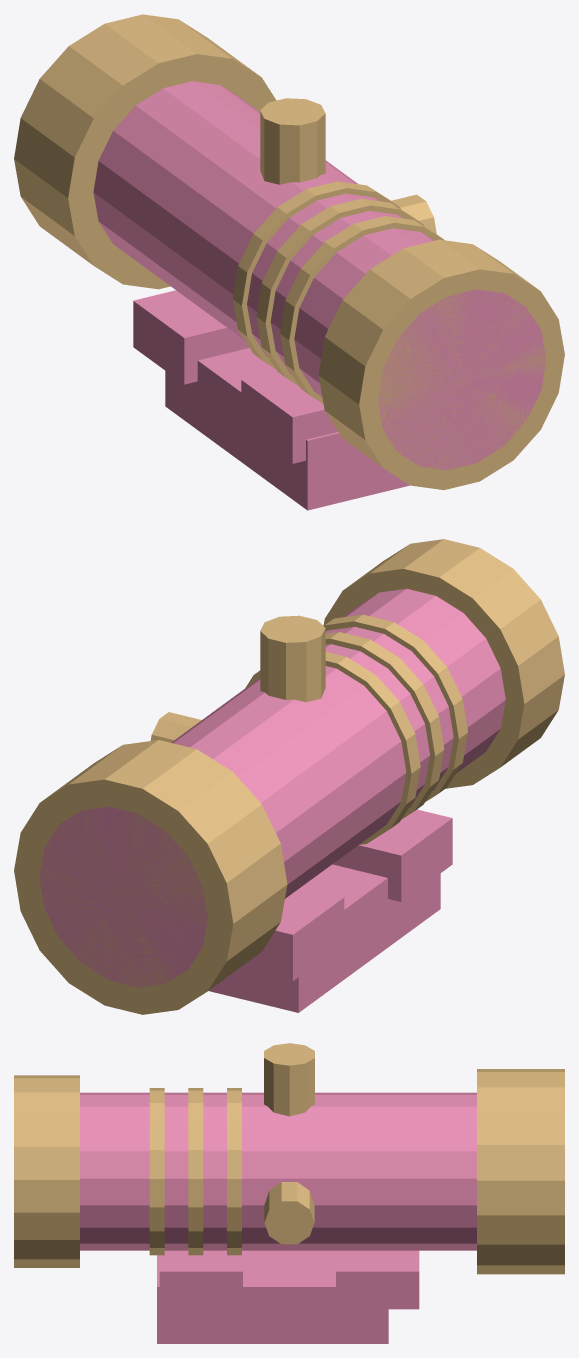
Rendered from Scope4x.obj.
3 views of the same model, one above another, from view 1: azimuth 30°, elevation 25°; view 2: azimuth 150°, elevation 25°; view 3: azimuth 270°, elevation 25° (orthographic). The views are drawn at different scales.
Parts seen in each view (by area): view 1: Scope4x_Body, Scope4x_Detail; view 2: Scope4x_Body, Scope4x_Detail; view 3: Scope4x_Body, Scope4x_Detail.
Part boxes in pixels (x1=…): Scope4x_Body: x1=93, y1=81, x2=546, y2=510; Scope4x_Detail: x1=14, y1=14, x2=564, y2=489; Scope4x_Body: x1=39, y1=588, x2=505, y2=1012; Scope4x_Detail: x1=14, y1=539, x2=564, y2=1014; Scope4x_Body: x1=80, y1=1092, x2=476, y2=1343; Scope4x_Detail: x1=14, y1=1043, x2=564, y2=1274.
Size of the model in its own units: 0.2685 by 0.3475 by 0.66.
